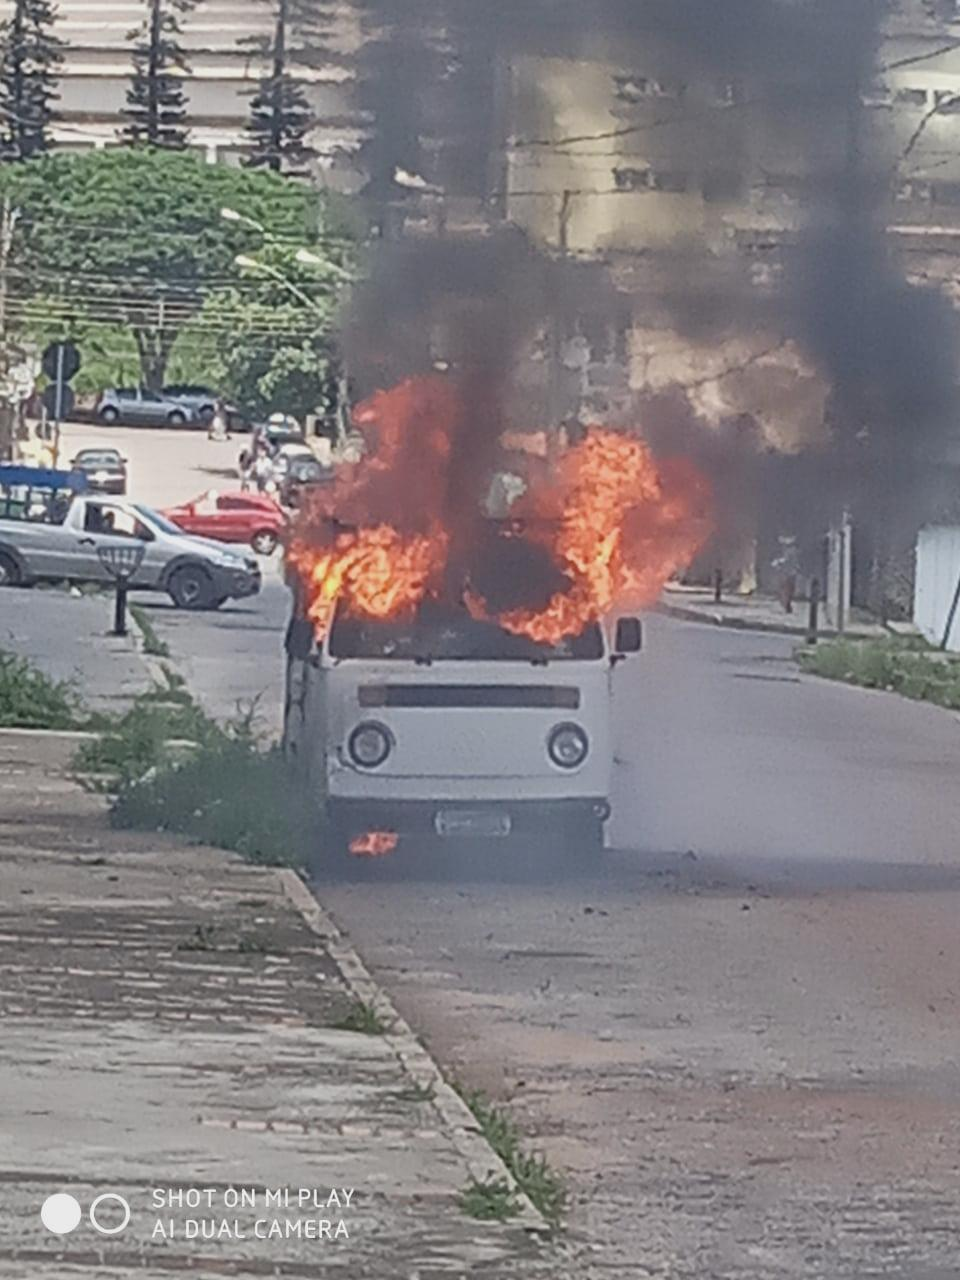Fire: (471, 423, 714, 642), (296, 372, 447, 639), (349, 830, 400, 852)
